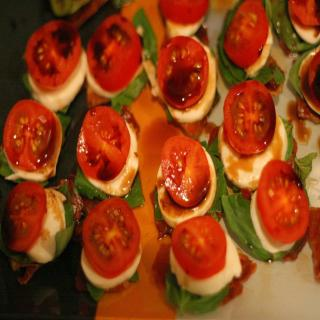tomato: (254, 162, 312, 255), (83, 196, 139, 278), (223, 79, 277, 159), (86, 15, 141, 91), (23, 18, 81, 89), (76, 104, 130, 180), (3, 100, 59, 171), (170, 212, 228, 280), (155, 34, 208, 108), (161, 135, 210, 207), (2, 178, 45, 256), (223, 0, 269, 66), (158, 0, 209, 25), (290, 0, 319, 29)
